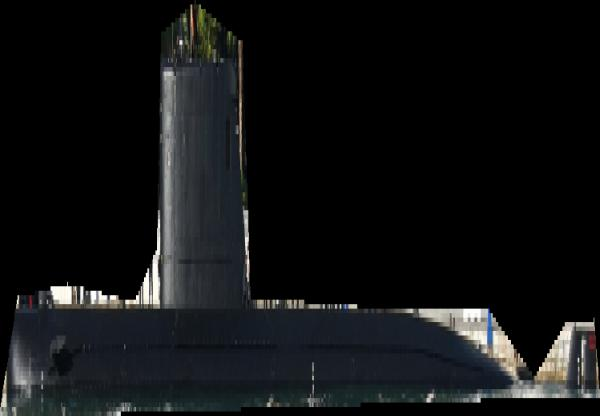Submarine: (0, 2, 600, 416)
